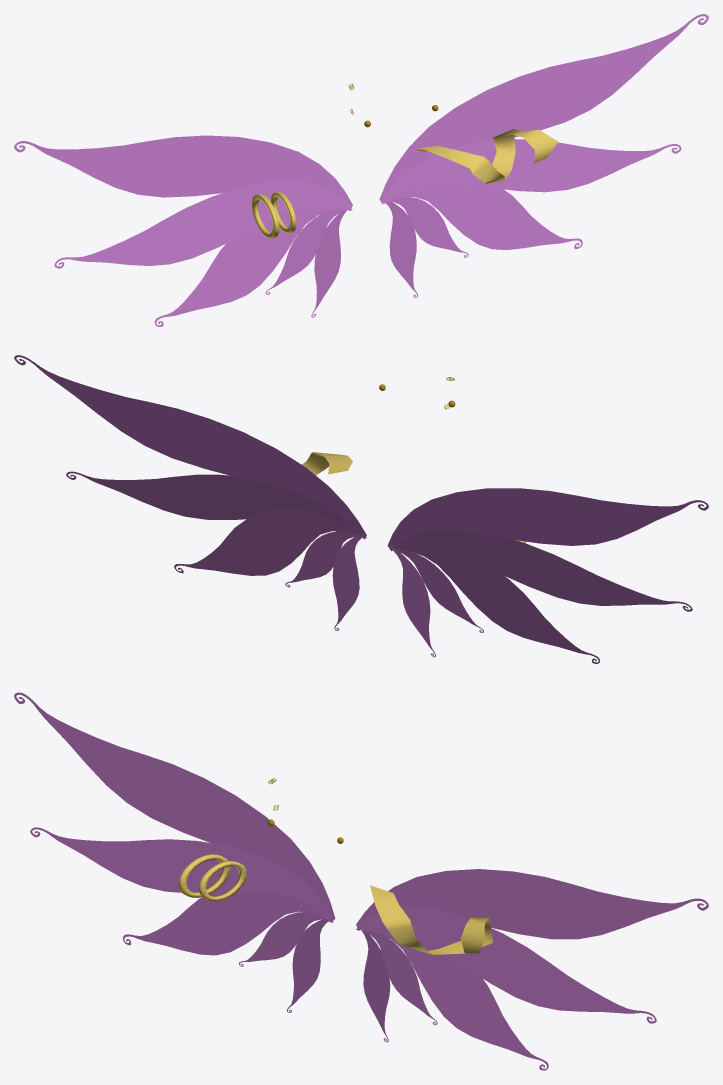
Rendered from alas.gltf.
The picture shows the model from 3 angles, top to bottom: view 1: azimuth 30°, elevation 25°; view 2: azimuth 150°, elevation 25°; view 3: azimuth 330°, elevation 25°; orthographic projection. The views are drawn at different scales.
Visible parts, largest first — view 1: Object_10, Object_3, Object_8; view 2: Object_10, Object_3; view 3: Object_10, Object_3, Object_8.
Boxes of the visible parts, <box> form: Object_10: <box>14,14,708,326</box>; Object_3: <box>417,129,558,184</box>; Object_8: <box>251,83,354,238</box>; Object_10: <box>14,355,708,663</box>; Object_3: <box>302,452,352,475</box>; Object_10: <box>14,692,708,1070</box>; Object_3: <box>370,885,493,954</box>; Object_8: <box>178,778,278,901</box>.
Bounding box in the file's own units: 14.7 × 5.15 × 2.
